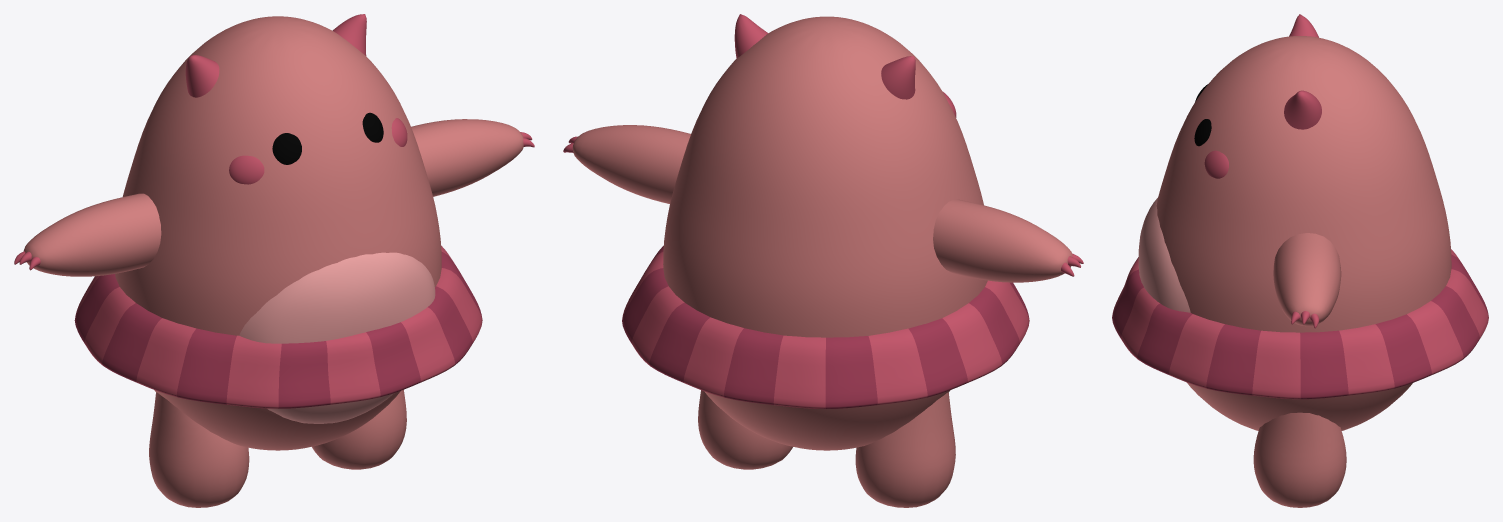
The picture shows the model from 3 angles, left to right: view 1: azimuth 30°, elevation 25°; view 2: azimuth 150°, elevation 25°; view 3: azimuth 270°, elevation 25°; orthographic projection. The views are drawn at different scales.
Visible parts, largest first — view 1: ch_3_body, ch_3_bandana, ch_3_belly, ch_3_arm_right, ch_3_leg_right, ch_3_arm_left, ch_3_leg_left, ch_3_horns, ch_3_eyes, ch_3_cheeks; view 2: ch_3_body, ch_3_bandana, ch_3_arm_right, ch_3_leg_right, ch_3_arm_left, ch_3_leg_left, ch_3_horns; view 3: ch_3_body, ch_3_bandana, ch_3_leg_left, ch_3_arm_left, ch_3_belly, ch_3_horns, ch_3_cheeks.
Part boxes in pixels (bbox=[...]): ch_3_body: bbox=[115, 16, 441, 450]; ch_3_bandana: bbox=[74, 245, 482, 408]; ch_3_belly: bbox=[239, 252, 435, 423]; ch_3_arm_right: bbox=[14, 193, 161, 276]; ch_3_leg_right: bbox=[149, 392, 249, 507]; ch_3_arm_left: bbox=[411, 119, 534, 196]; ch_3_leg_left: bbox=[312, 389, 406, 469]; ch_3_horns: bbox=[185, 14, 366, 97]; ch_3_eyes: bbox=[272, 112, 383, 164]; ch_3_cheeks: bbox=[229, 118, 407, 184]; ch_3_body: bbox=[663, 16, 987, 450]; ch_3_bandana: bbox=[622, 246, 1029, 409]; ch_3_arm_right: bbox=[933, 199, 1083, 282]; ch_3_leg_right: bbox=[855, 392, 955, 507]; ch_3_arm_left: bbox=[563, 125, 690, 203]; ch_3_leg_left: bbox=[698, 390, 792, 469]; ch_3_horns: bbox=[734, 14, 915, 99]; ch_3_body: bbox=[1156, 36, 1451, 430]; ch_3_bandana: bbox=[1112, 249, 1488, 399]; ch_3_leg_left: bbox=[1253, 412, 1346, 507]; ch_3_arm_left: bbox=[1273, 233, 1341, 328]; ch_3_belly: bbox=[1138, 198, 1190, 312]; ch_3_horns: bbox=[1284, 14, 1321, 129]; ch_3_cheeks: bbox=[1204, 150, 1228, 178].
Size of the model in its own units: 15.89 by 13.48 by 10.96.
